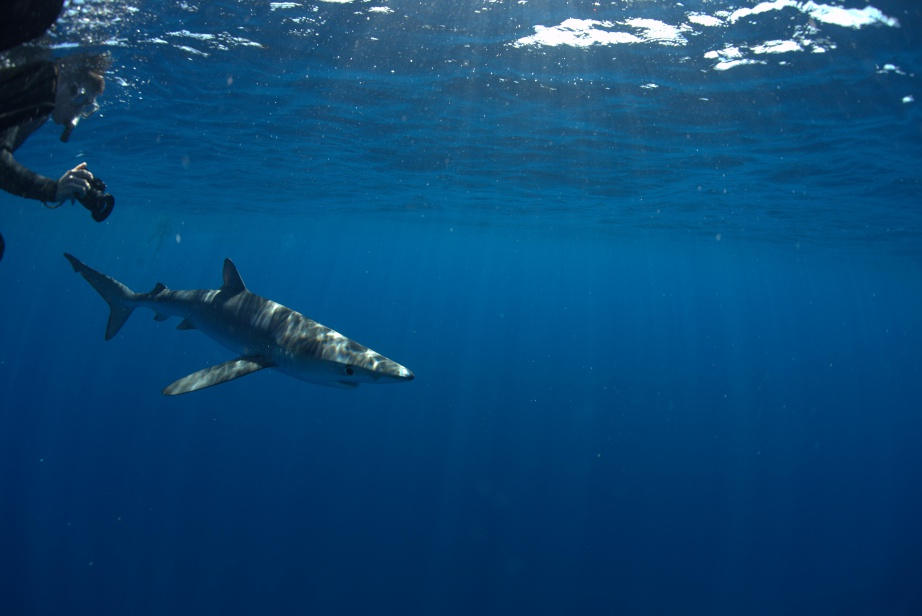Azul: (46, 236, 420, 420)
